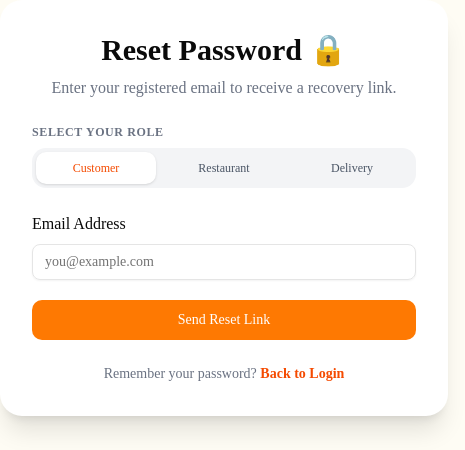
Password Recovery Forms › ForgotPasswordForm › submits request successfully and shows confirmation UI
In the field labelled "Email Address": (224, 262) [32,244,416,280], type "validuser@example.com"
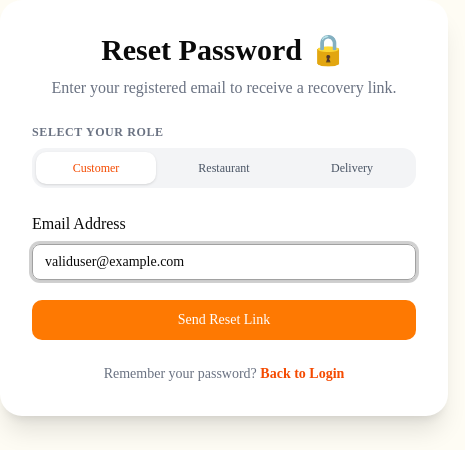
Click the button "Send Reset Link": (224, 320) [32,300,416,340]
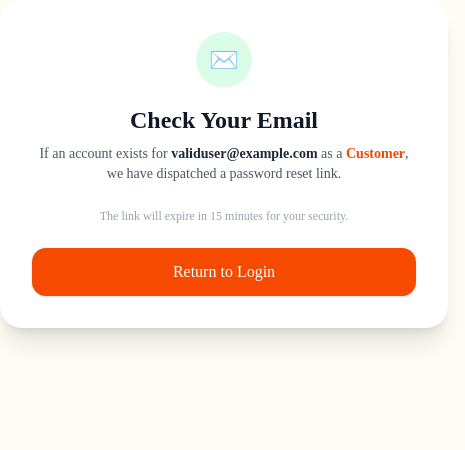
Expected: the heading "Check Your Email" is shown, [130,107,318,133]
Expected: the text "validuser@example.com" is shown, [171,146,318,161]
